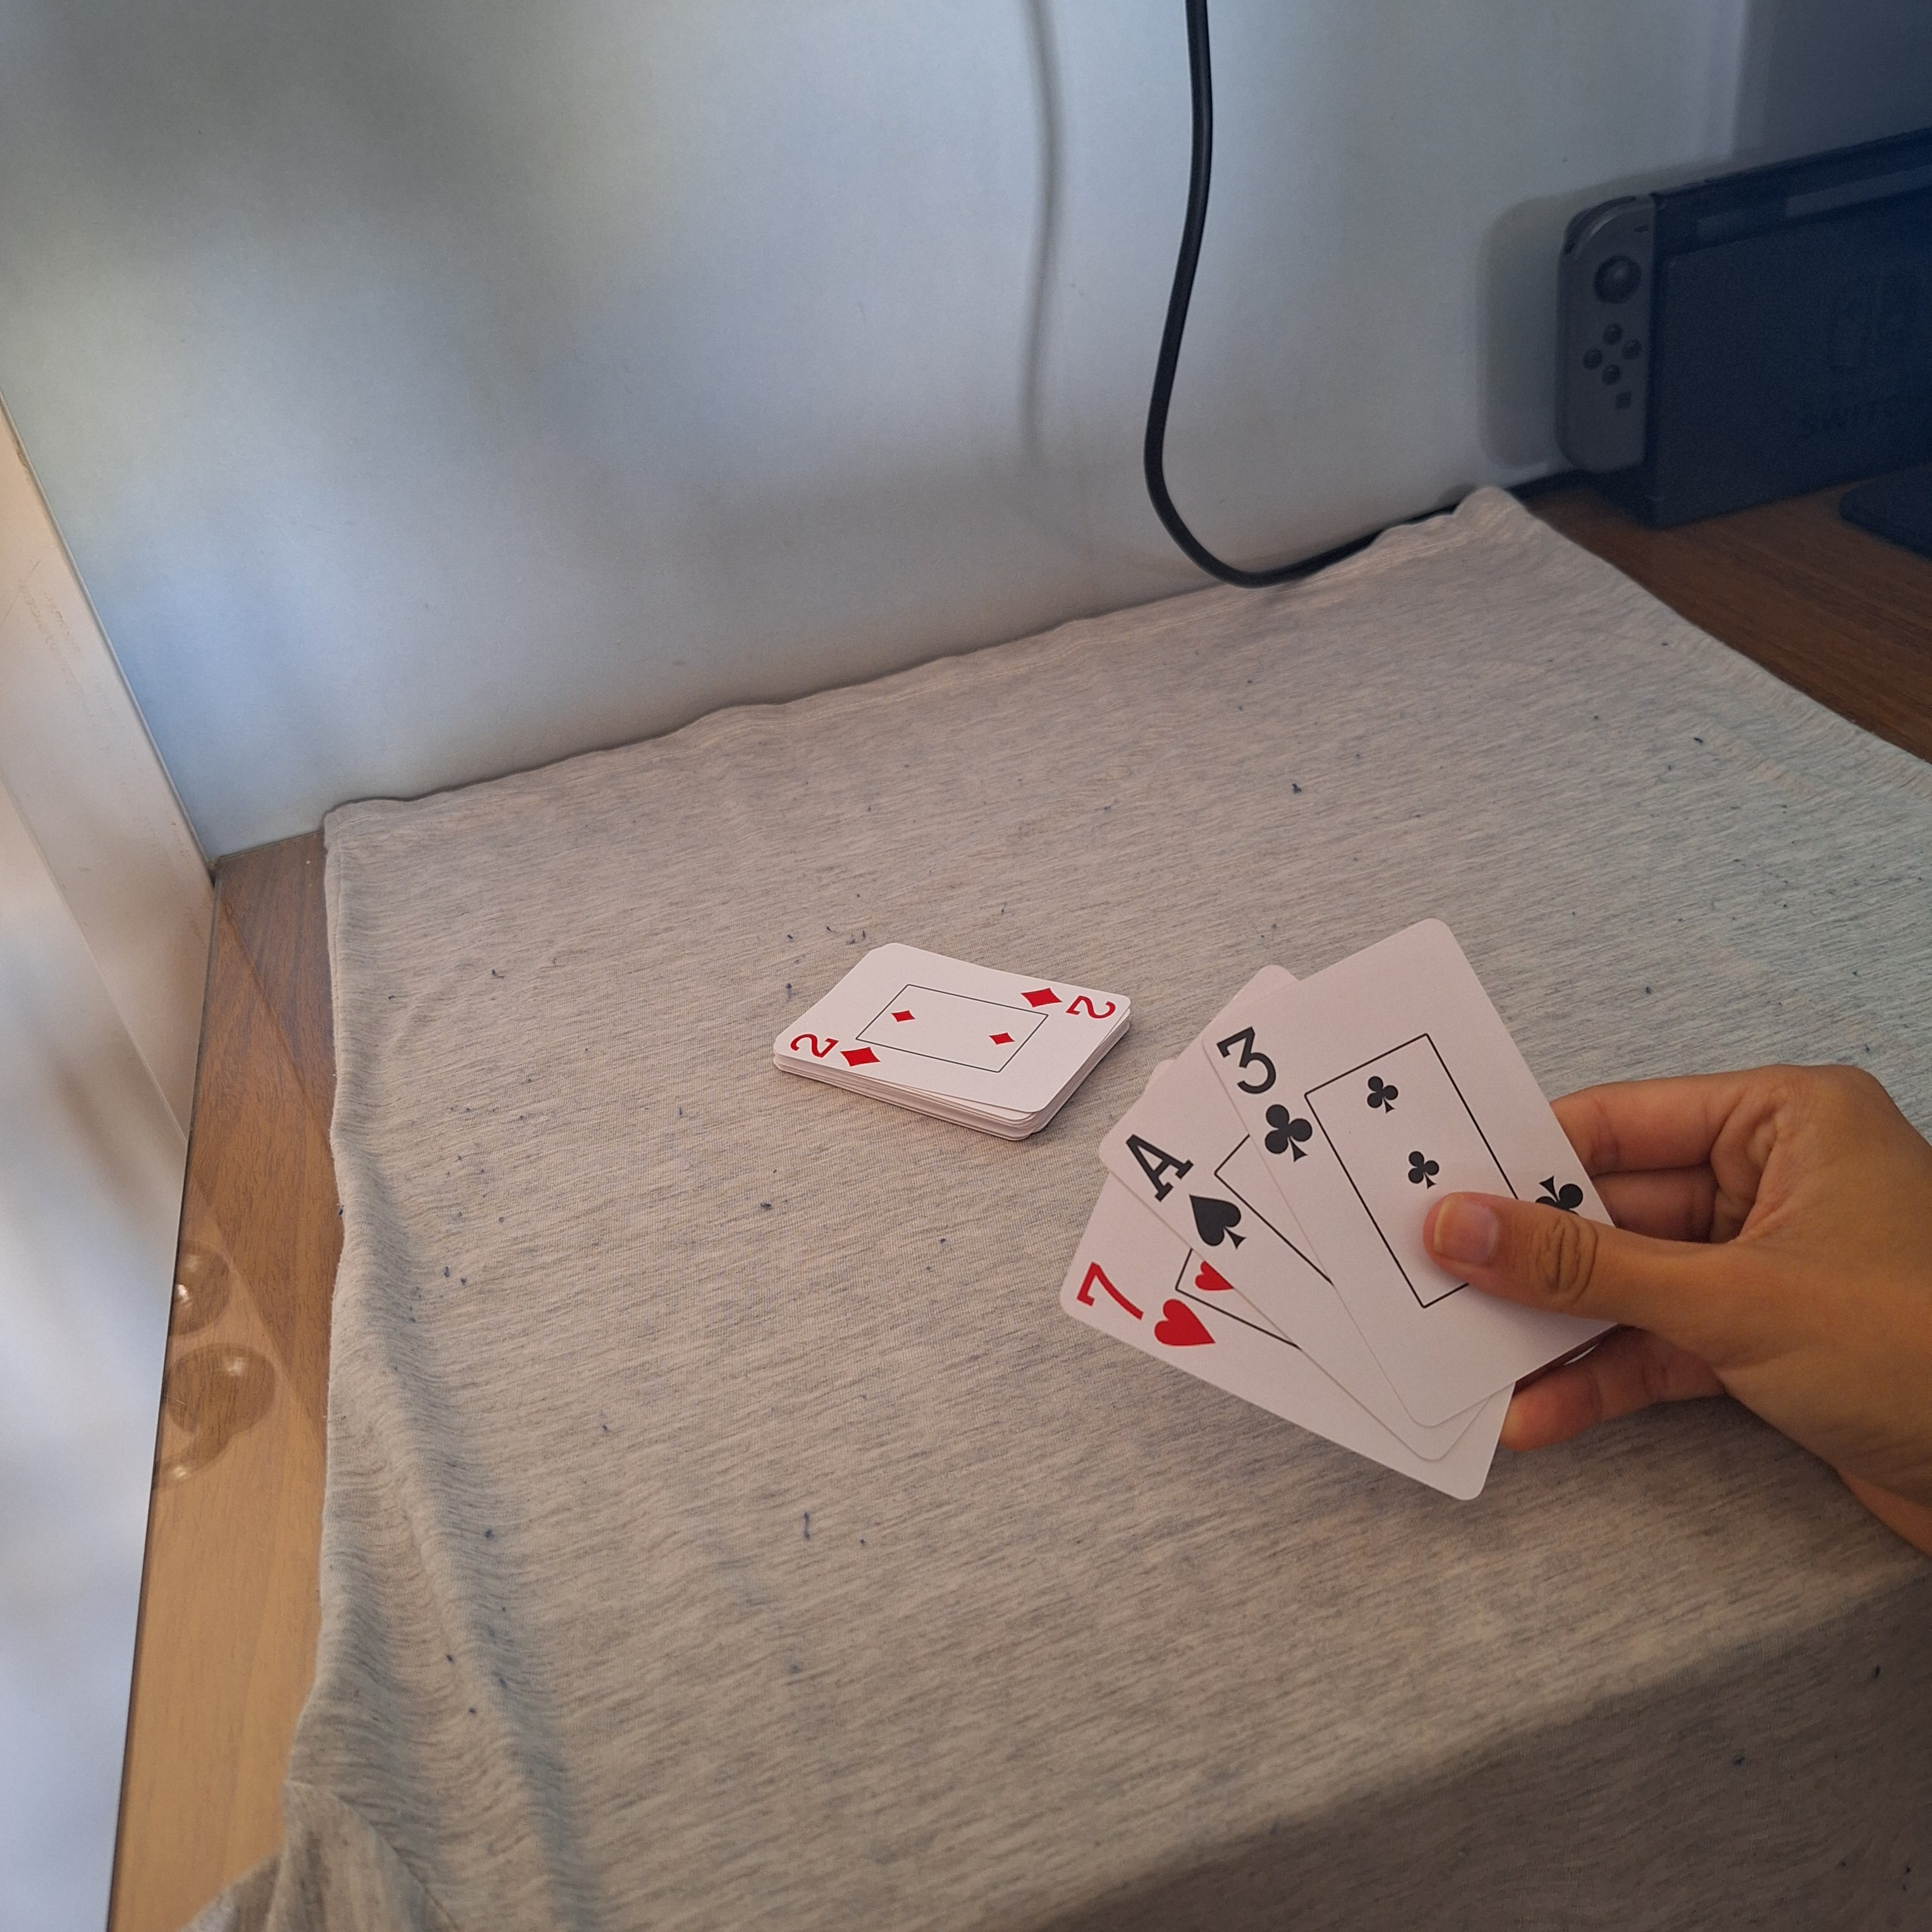2O: (1017, 982, 1120, 1026), (786, 1030, 881, 1072)
3P: (1212, 1021, 1320, 1166)
7C: (1069, 1260, 1219, 1355)
AE: (1116, 1127, 1254, 1254)
